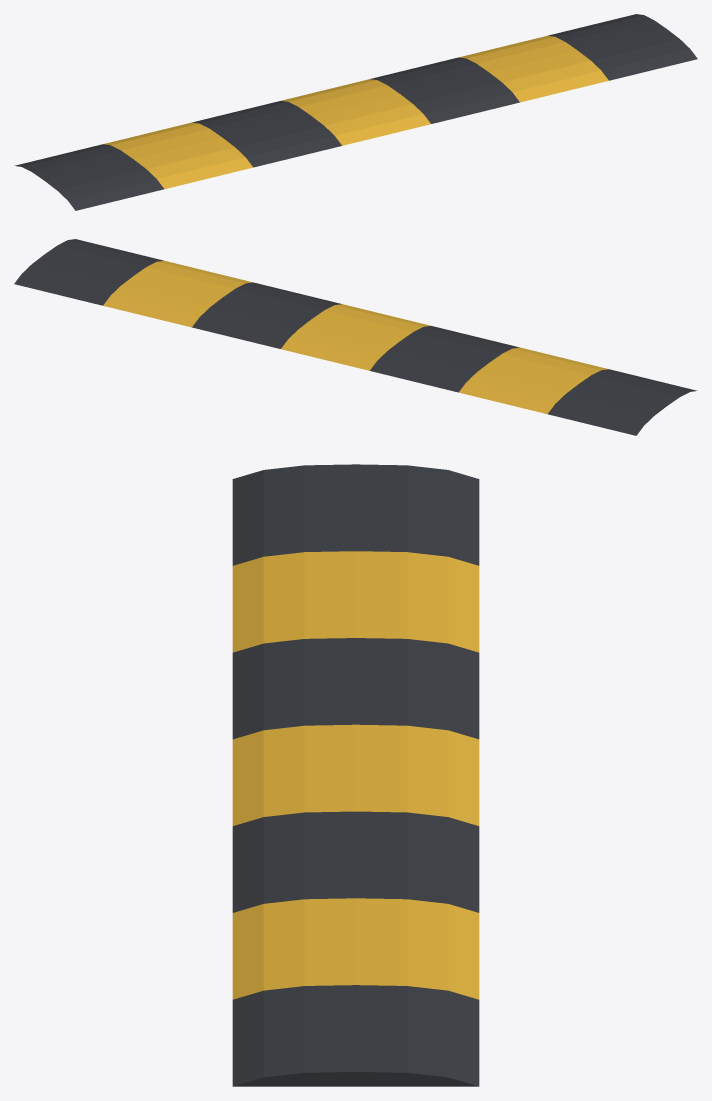
File: SpeedBump_7m.glb
The picture shows the model from 3 angles, top to bottom: view 1: azimuth 30°, elevation 25°; view 2: azimuth 150°, elevation 25°; view 3: azimuth 270°, elevation 25°; orthographic projection. The views are drawn at different scales.
Visible parts, largest first — view 1: SpeedBump_7m_Asphalt, SpeedBump_7m_PaintYellow; view 2: SpeedBump_7m_Asphalt, SpeedBump_7m_PaintYellow; view 3: SpeedBump_7m_Asphalt, SpeedBump_7m_PaintYellow.
Boxes of the visible parts, box(x1,y1,x2,y2) form: SpeedBump_7m_Asphalt: box(14, 14, 697, 210); SpeedBump_7m_PaintYellow: box(103, 35, 608, 189); SpeedBump_7m_Asphalt: box(14, 239, 697, 435); SpeedBump_7m_PaintYellow: box(103, 260, 608, 414); SpeedBump_7m_Asphalt: box(232, 464, 479, 1086); SpeedBump_7m_PaintYellow: box(232, 551, 479, 999).
Size of the model in its own units: 7 by 0.079 by 1.2.
